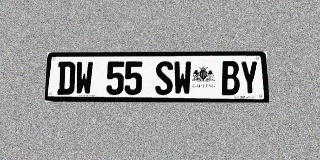5: (106, 61, 124, 95), (124, 61, 142, 95)
B: (221, 61, 240, 95)
D: (57, 61, 76, 95)
S: (155, 61, 173, 95)
W: (75, 61, 93, 95), (174, 61, 192, 95)
Y: (240, 61, 259, 95)
